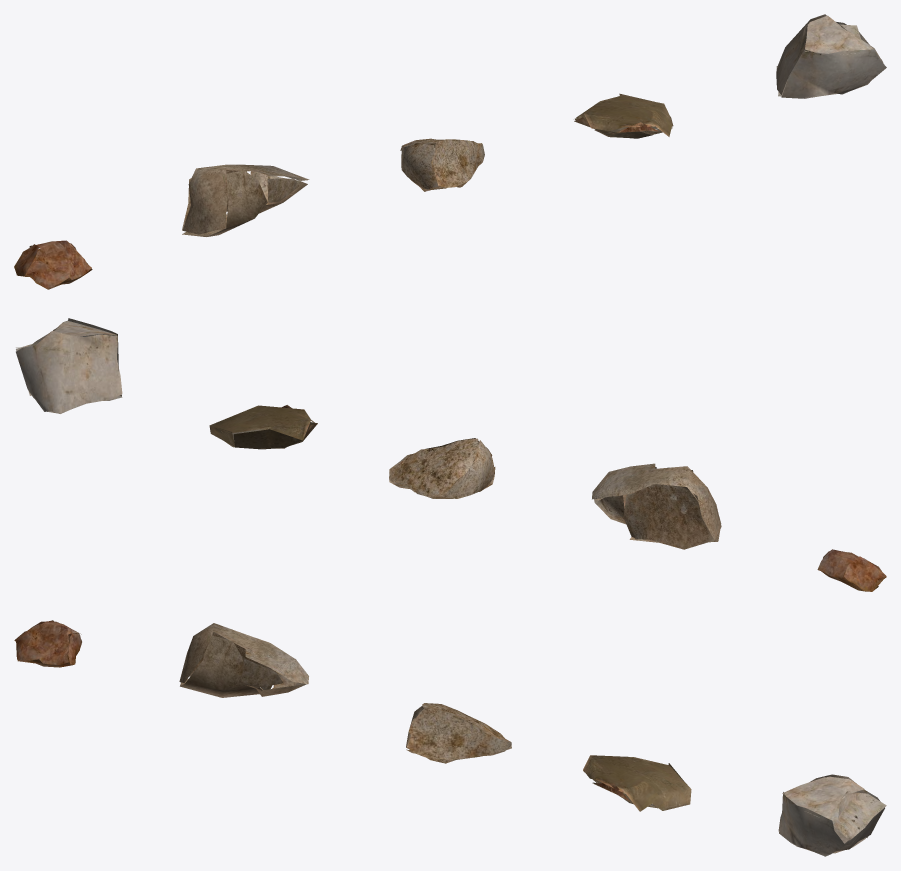
File: namaqualand_stones_01.glb
3 views of the same model, one above another, from view 1: azimuth 30°, elevation 25°; view 2: azimuth 150°, elevation 25°; view 3: azimuth 330°, elevation 25° (orthographic).
Visible parts, largest first — view 1: namaqualand_stones_01_e, namaqualand_stones_01_b, namaqualand_stones_01_c, namaqualand_stones_01_d, namaqualand_stones_01_a; view 2: namaqualand_stones_01_b, namaqualand_stones_01_e, namaqualand_stones_01_c, namaqualand_stones_01_d, namaqualand_stones_01_a; view 3: namaqualand_stones_01_b, namaqualand_stones_01_e, namaqualand_stones_01_c, namaqualand_stones_01_d, namaqualand_stones_01_a.
Part boxes in pixels (bbox=[...]): namaqualand_stones_01_e: bbox=[776, 14, 886, 98]; namaqualand_stones_01_b: bbox=[182, 164, 309, 236]; namaqualand_stones_01_c: bbox=[400, 138, 484, 191]; namaqualand_stones_01_d: bbox=[574, 93, 673, 138]; namaqualand_stones_01_a: bbox=[14, 240, 92, 289]; namaqualand_stones_01_b: bbox=[592, 463, 721, 549]; namaqualand_stones_01_e: bbox=[16, 318, 122, 413]; namaqualand_stones_01_c: bbox=[389, 438, 495, 498]; namaqualand_stones_01_d: bbox=[209, 405, 317, 449]; namaqualand_stones_01_a: bbox=[817, 549, 886, 591]; namaqualand_stones_01_b: bbox=[179, 623, 308, 697]; namaqualand_stones_01_e: bbox=[778, 774, 886, 856]; namaqualand_stones_01_c: bbox=[406, 703, 511, 763]; namaqualand_stones_01_d: bbox=[583, 755, 691, 811]; namaqualand_stones_01_a: bbox=[14, 620, 81, 667].
Size of the model in its own units: 1.02 by 0.0824 by 0.1135.
Materials: 1 (1 with a texture image).
